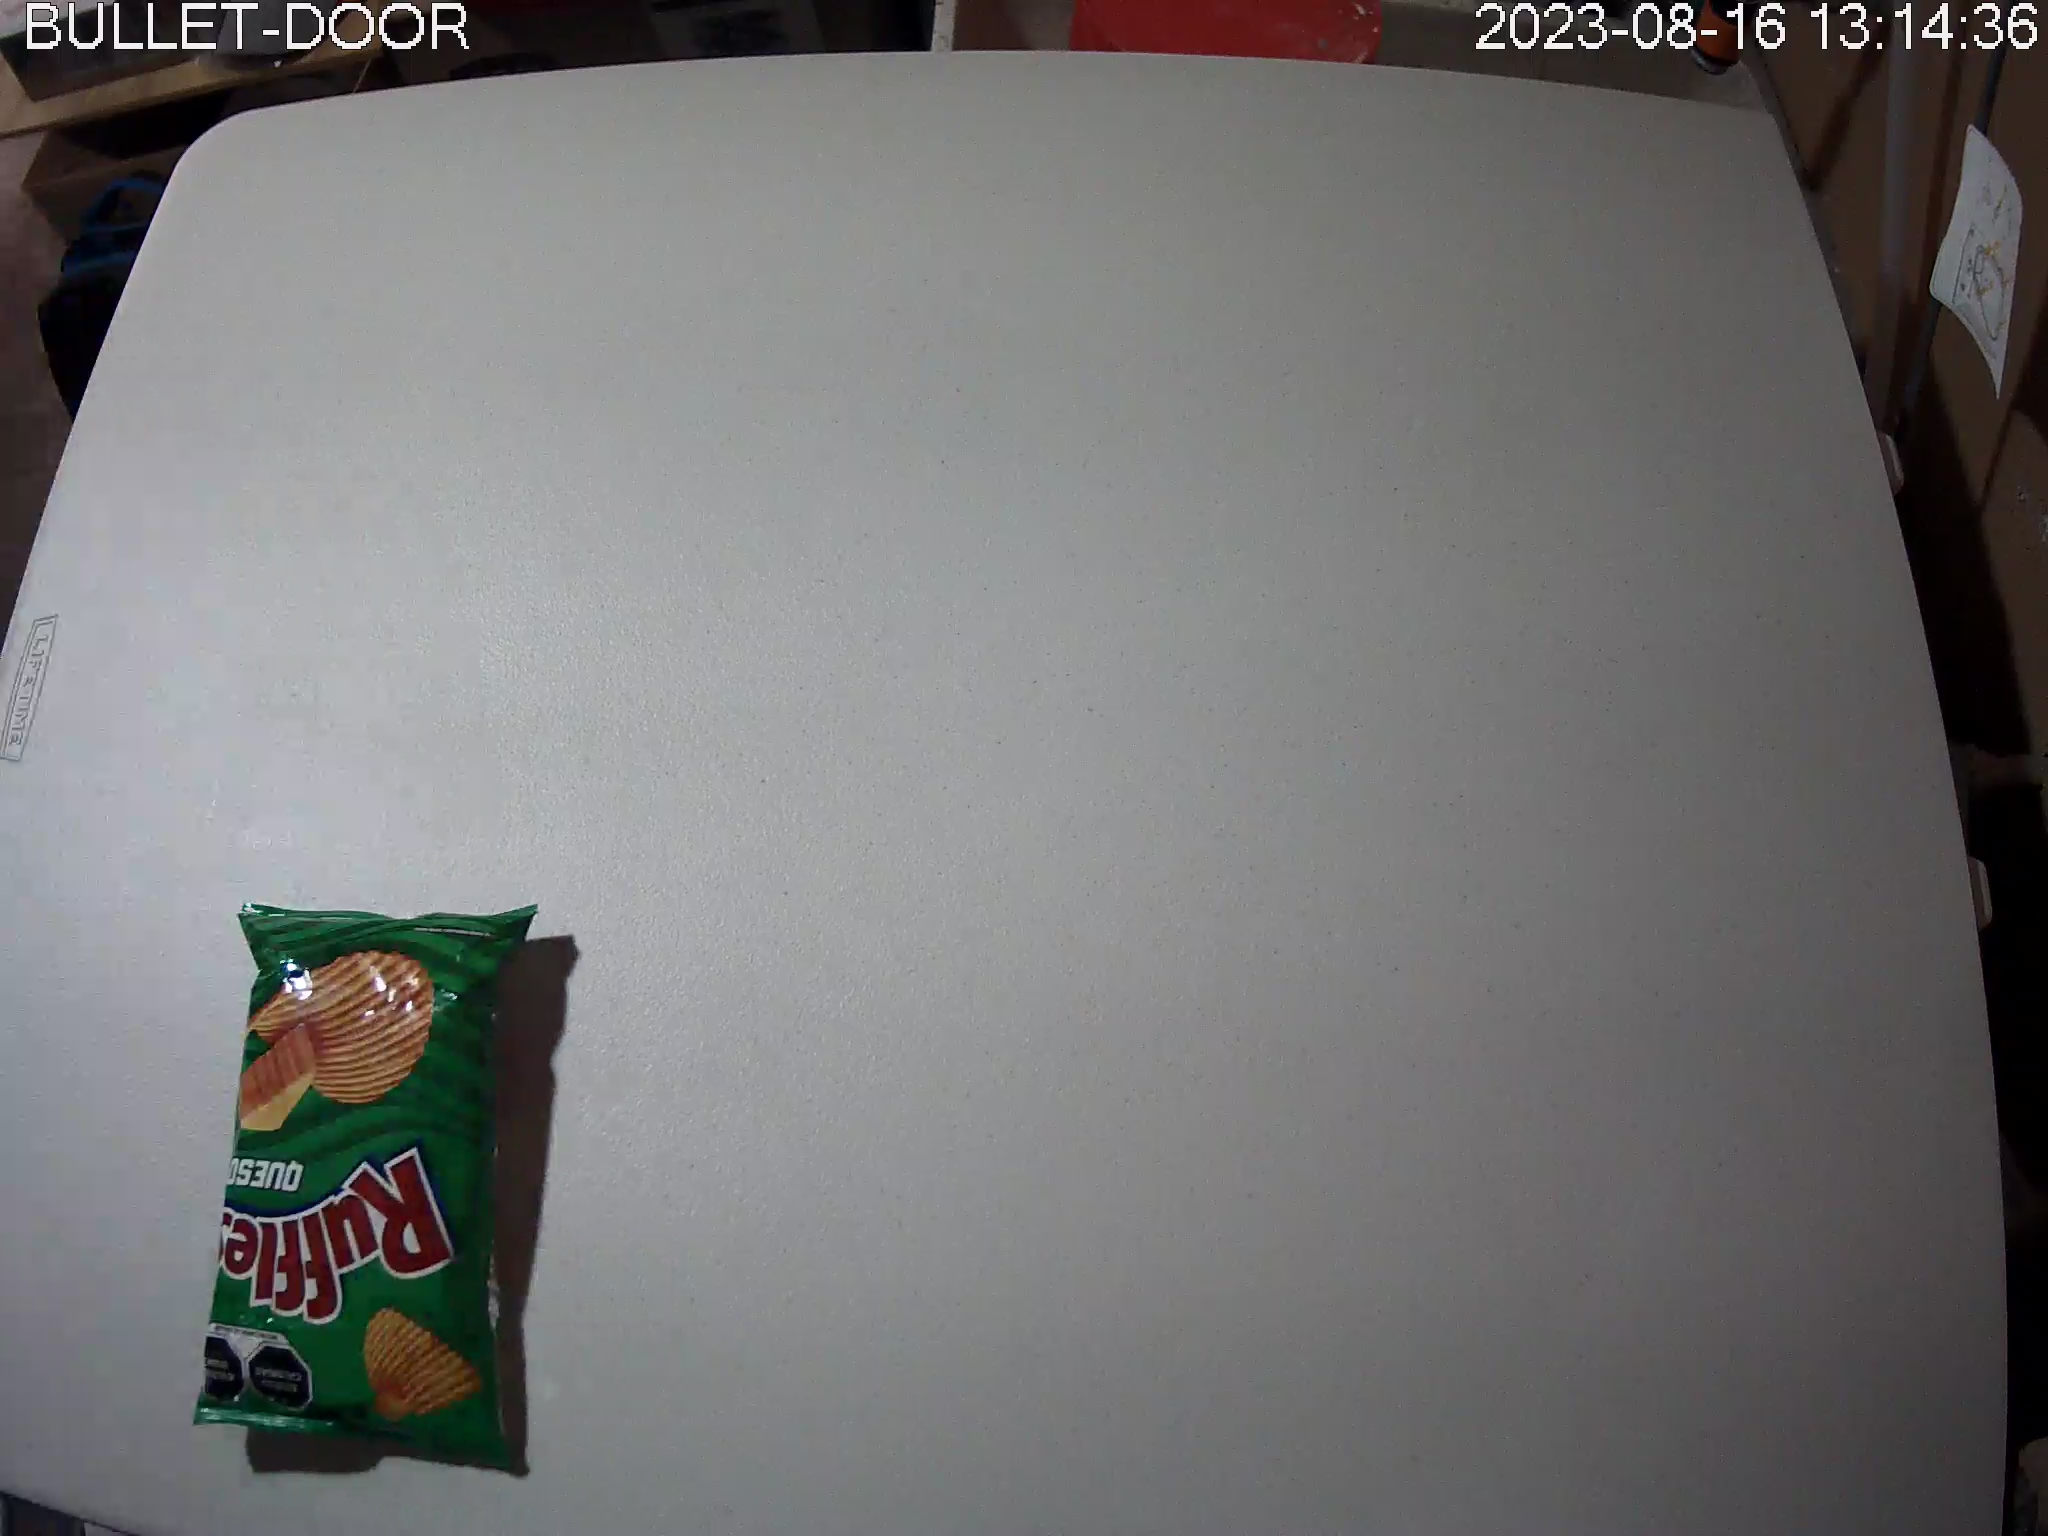RufflesQ_48_F: (192, 900, 540, 1471)
